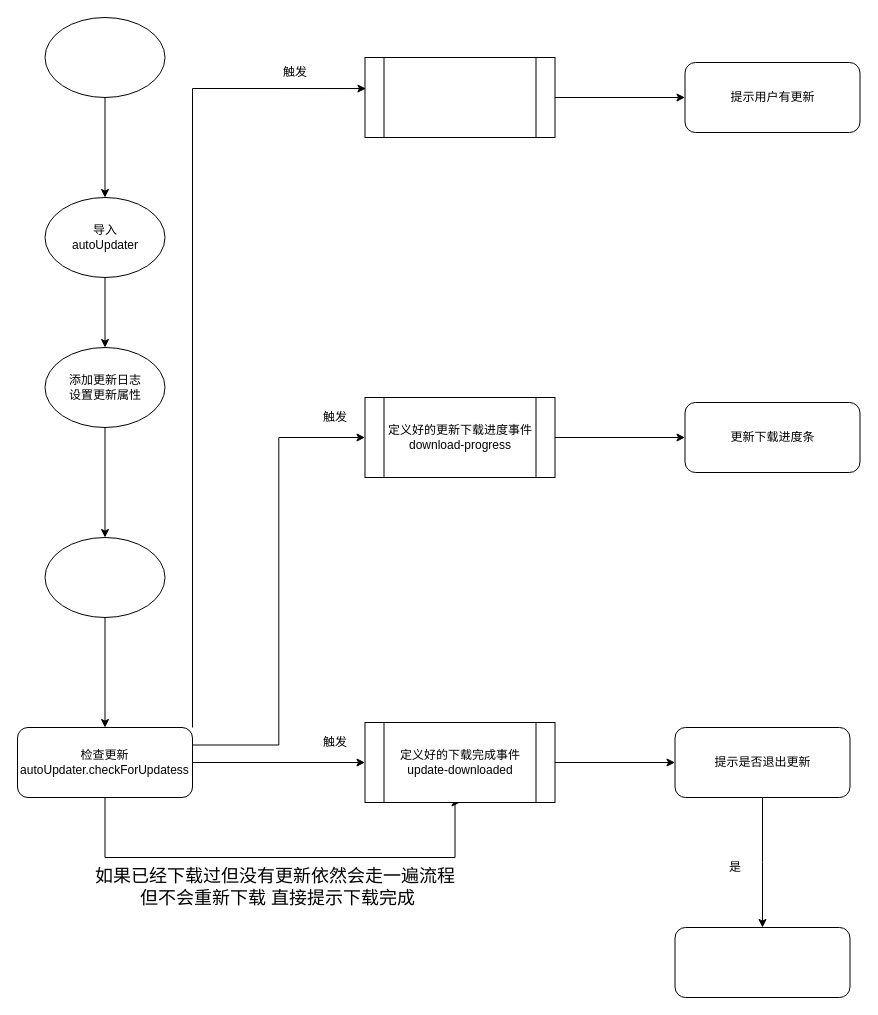
Image size: 878x1015. Some labels were removed from this diagram. The shapes that lost their labels are listed below. From the top down, each one's centre as x and y in pixels, then its label:
At pixel 104 57: "使用 autoUpdater 实现自动更新".
At pixel 459 97: "定义好的发现更新事件 update-not-available".
At pixel 104 577: "定义好更新的各个事件的侦听器".
At pixel 762 962: "退出更新 autoUpdater.quitAndInstall".
